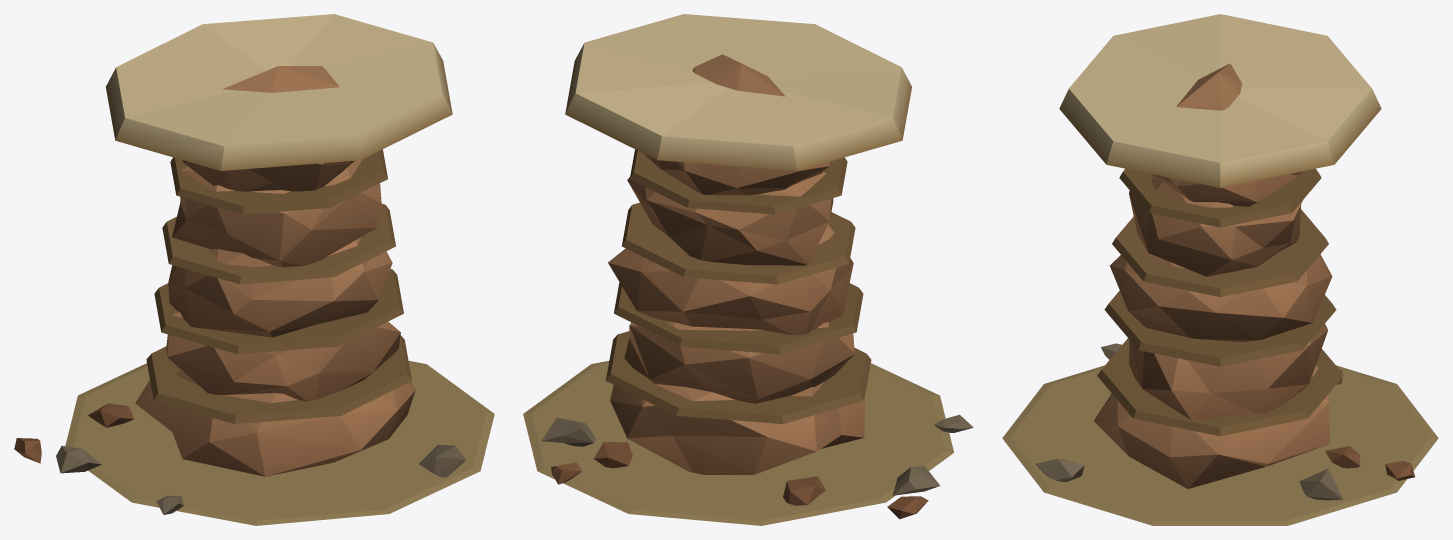
File: mesa_outcrop.glb
3 views of the same model, side by side, from view 1: azimuth 30°, elevation 25°; view 2: azimuth 150°, elevation 25°; view 3: azimuth 270°, elevation 25° (orthographic).
Parts seen in each view (by area): view 1: mesa_outcrop; view 2: mesa_outcrop; view 3: mesa_outcrop.
Part boxes in pixels (box(x1,y1,x2,y2)): mesa_outcrop: box(14, 14, 494, 525); mesa_outcrop: box(523, 14, 973, 525); mesa_outcrop: box(1002, 14, 1438, 525).
Size of the model in its own units: 3.3 by 2.88 by 3.12.
